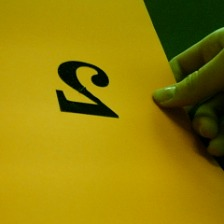orange2: (53, 56, 124, 122)
